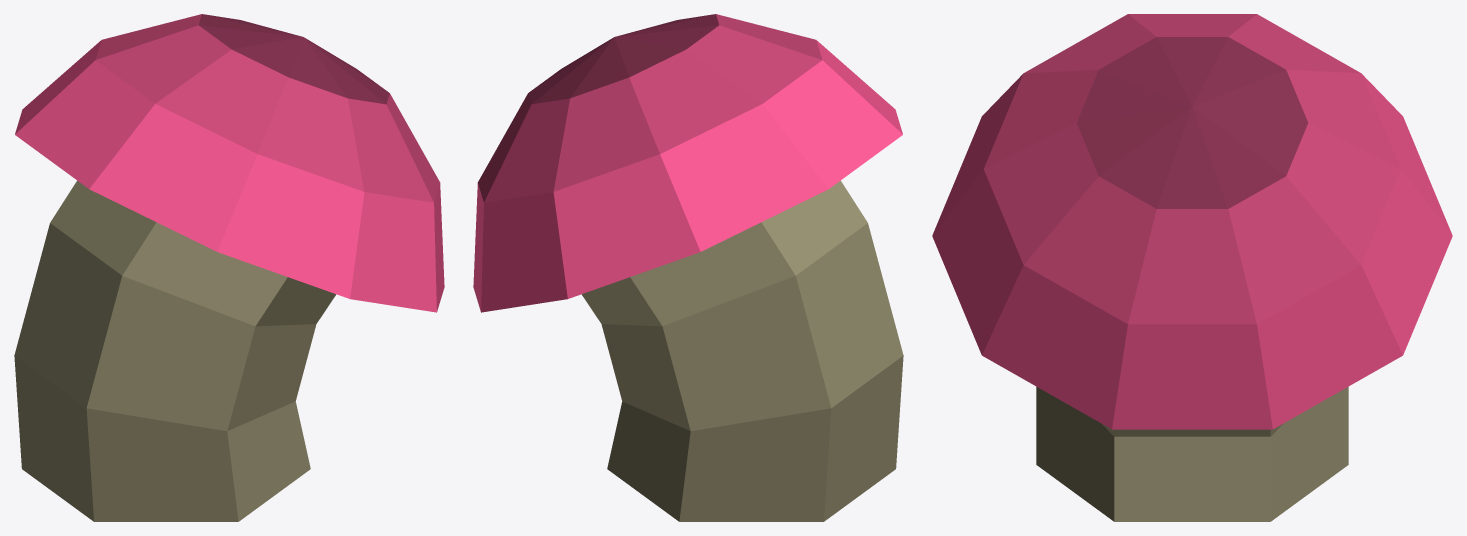
The model's file is Mushroom_3_Pink.fbx.
3 renders of one model, left to right at view 1: azimuth 30°, elevation 25°; view 2: azimuth 150°, elevation 25°; view 3: azimuth 270°, elevation 25°, orthographic. The views are drawn at different scales.
Visible parts, largest first — view 1: Mushroom_3_Pink; view 2: Mushroom_3_Pink; view 3: Mushroom_3_Pink.
Boxes of the visible parts, x1=… form: Mushroom_3_Pink: x1=14, y1=14, x2=444, y2=521; Mushroom_3_Pink: x1=473, y1=14, x2=903, y2=521; Mushroom_3_Pink: x1=932, y1=14, x2=1452, y2=521.
Bounding box in the file's own units: 57.52 × 64.13 × 66.69.
